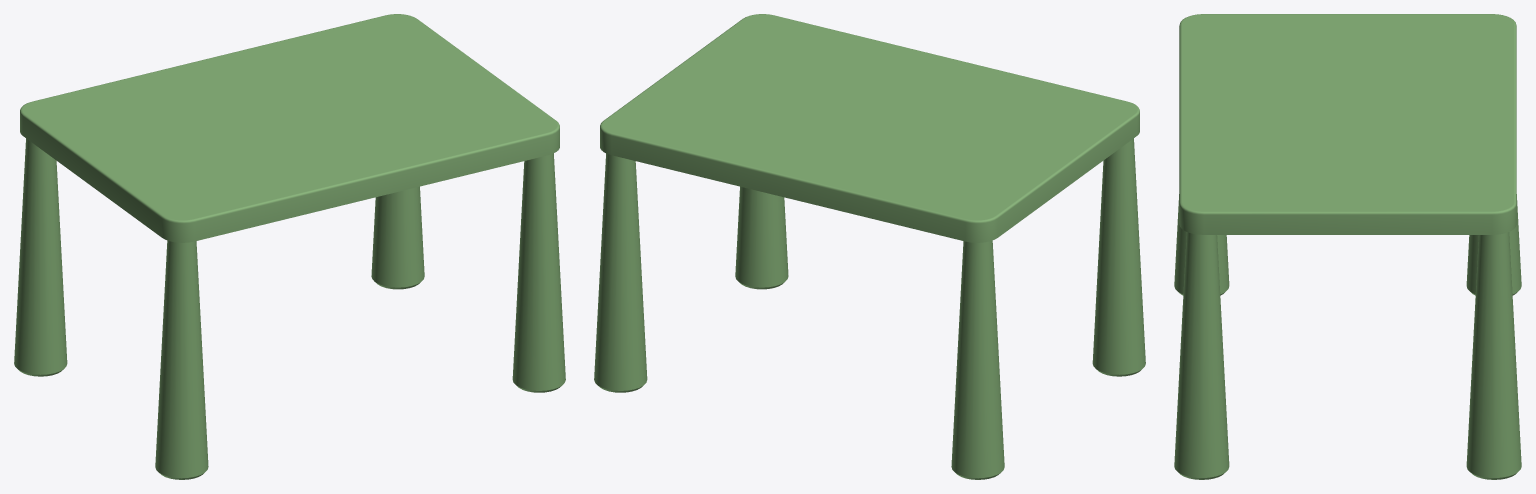
File: Table.FBX
The picture shows the model from 3 angles, left to right: view 1: azimuth 30°, elevation 25°; view 2: azimuth 150°, elevation 25°; view 3: azimuth 270°, elevation 25°; orthographic projection. The views are drawn at different scales.
Visible parts, largest first — view 1: Shape004, Shape005, Shape006, Shape007, Shape008; view 2: Shape004, Shape007, Shape008, Shape005, Shape006; view 3: Shape004, Shape008, Shape006, Shape005, Shape007.
Boxes of the visible parts, left/top/right/bottom form: Shape004: left=20, top=14, right=559, bottom=242; Shape005: left=155, top=240, right=208, bottom=479; Shape006: left=512, top=153, right=565, bottom=392; Shape007: left=14, top=138, right=67, bottom=376; Shape008: left=371, top=186, right=424, bottom=289; Shape004: left=600, top=14, right=1139, bottom=242; Shape007: left=951, top=240, right=1004, bottom=479; Shape008: left=594, top=153, right=647, bottom=392; Shape005: left=1092, top=138, right=1145, bottom=376; Shape006: left=735, top=186, right=788, bottom=289; Shape004: left=1179, top=14, right=1516, bottom=234; Shape008: left=1466, top=232, right=1521, bottom=479; Shape006: left=1174, top=232, right=1229, bottom=479; Shape005: left=1174, top=194, right=1229, bottom=295; Shape007: left=1466, top=194, right=1521, bottom=295.
Size of the model in its own units: 787 by 480 by 567.
